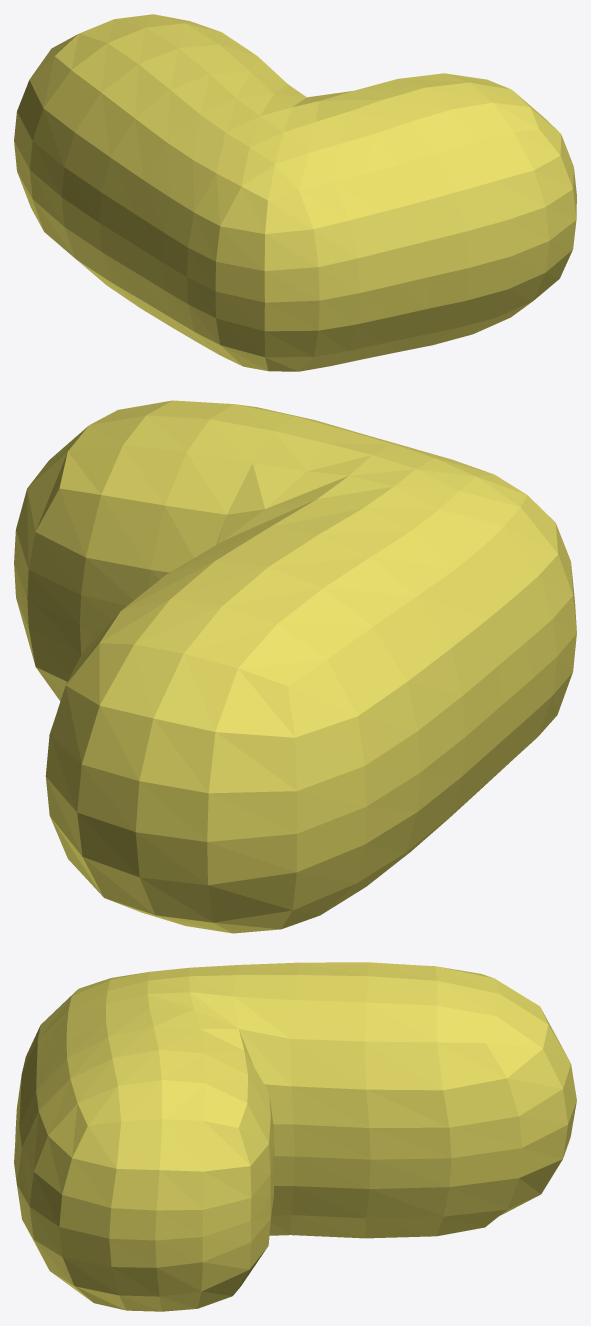
The picture shows the model from 3 angles, top to bottom: view 1: azimuth 30°, elevation 25°; view 2: azimuth 150°, elevation 25°; view 3: azimuth 270°, elevation 25°; orthographic projection. The views are drawn at different scales.
Bounding box in the file's own units: 0.7743 × 0.4433 × 0.9365.
